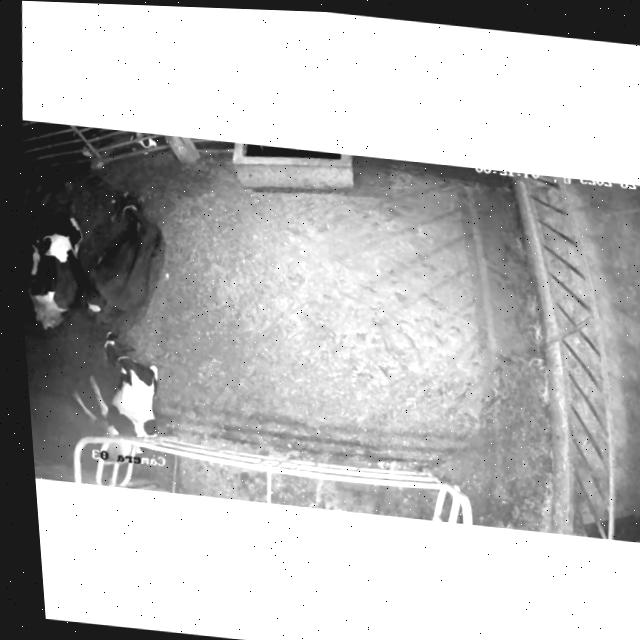lay: (71, 179, 179, 337), (61, 326, 188, 460), (14, 195, 91, 343)
